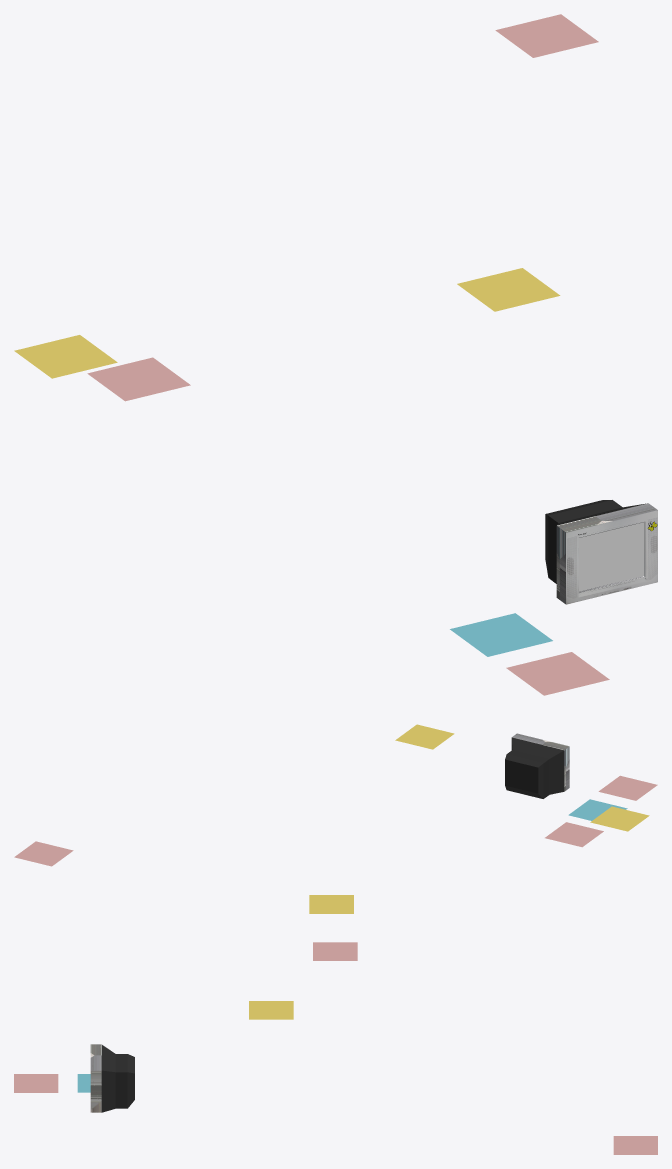
The picture shows the model from 3 angles, top to bottom: view 1: azimuth 30°, elevation 25°; view 2: azimuth 150°, elevation 25°; view 3: azimuth 270°, elevation 25°; orthographic projection. The views are drawn at different scales.
Visible parts, largest first — view 1: TVMesh, ScreenMesh, Plane, Plane.001, Plane.005, Plane.002, Plane.004, Plane.003; view 2: TVMesh, Plane.002, Plane.005, Plane.004, Plane, Plane.003, Plane.001; view 3: TVMesh, Plane, Plane.002, Plane.005, Plane.004, Plane.003.
Part boxes in pixels (box(x1,y1,x2,y2)): TVMesh: box(545, 500, 657, 604); ScreenMesh: box(579, 522, 643, 591); Plane: box(14, 335, 117, 378); Plane.001: box(450, 613, 552, 656); Plane.005: box(457, 268, 560, 311); Plane.002: box(87, 357, 190, 401); Plane.004: box(506, 652, 609, 695); Plane.003: box(495, 14, 598, 57); TVMesh: box(505, 733, 569, 798); Plane.002: box(545, 822, 603, 847); Plane.005: box(395, 724, 454, 749); Plane.004: box(598, 775, 657, 800); Plane: box(590, 806, 649, 831); Plane.003: box(14, 841, 73, 866); Plane.001: box(568, 799, 627, 820); TVMesh: box(90, 1044, 134, 1112); Plane: box(309, 895, 353, 913); Plane.002: box(313, 942, 357, 960); Plane.005: box(249, 1001, 293, 1019); Plane.004: box(14, 1074, 58, 1092); Plane.003: box(613, 1136, 657, 1154).
Bounding box in the file's own units: 24.5 × 5.8 × 28.98.
9 materials, 1 textured.
